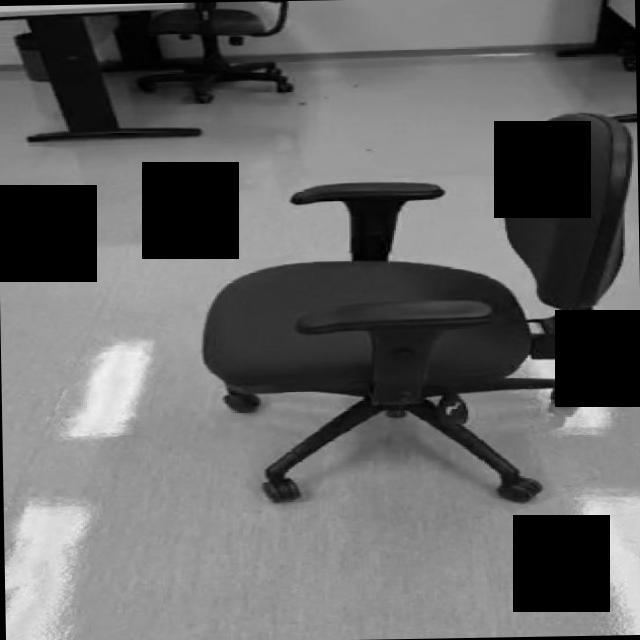chair: (195, 111, 640, 507)
